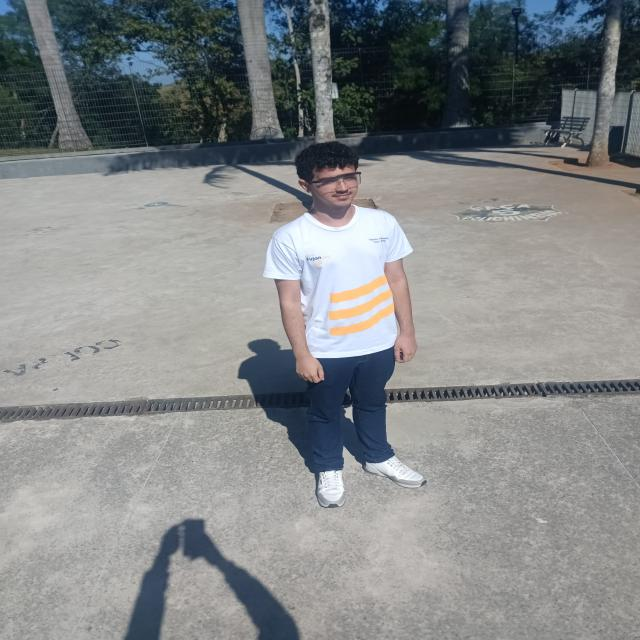oculos-epi: (311, 172, 361, 189)
